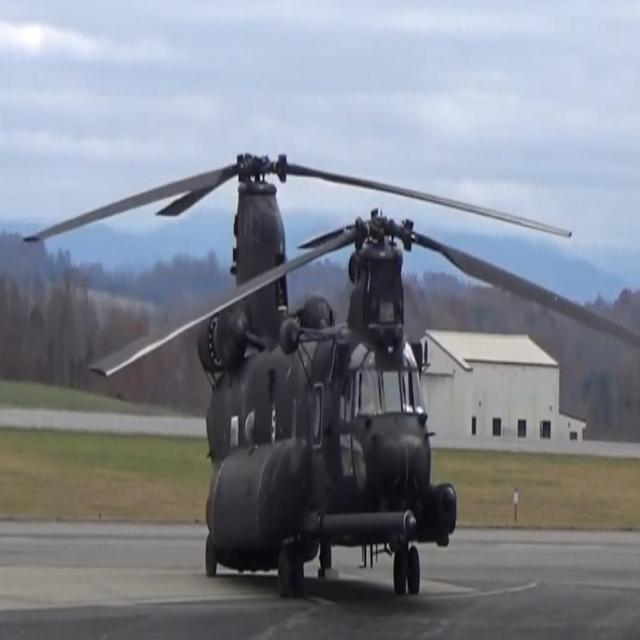Helicopter: (167, 134, 468, 612)
